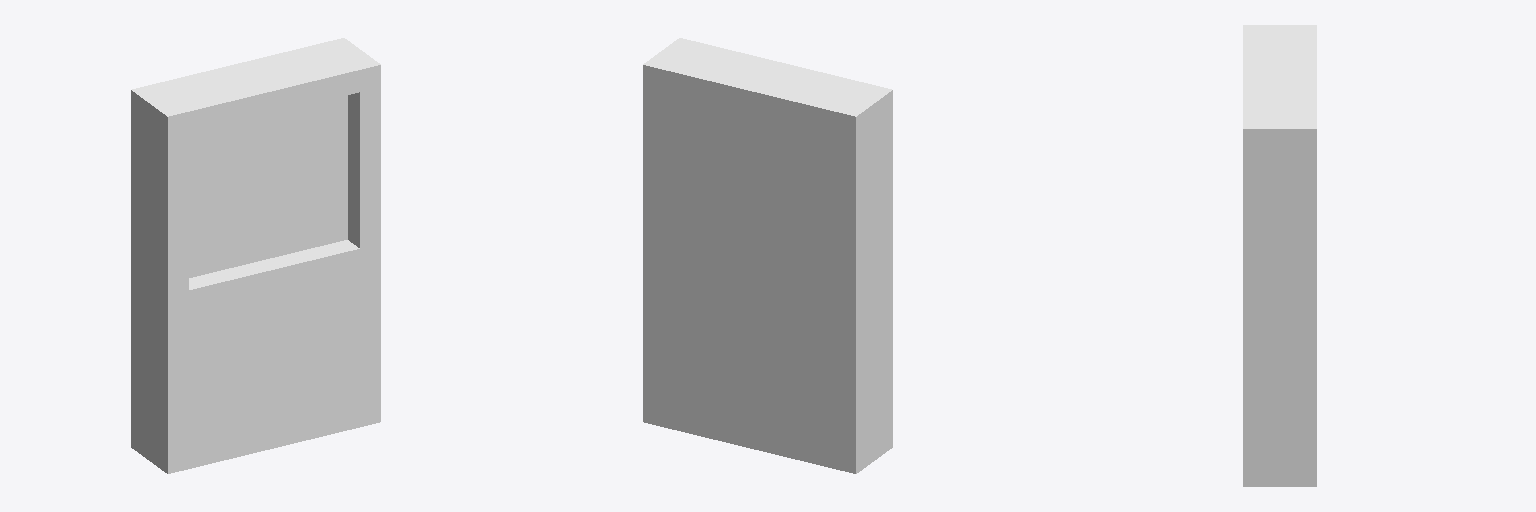
File: SacredTablet.obj
3 views of the same model, side by side, from view 1: azimuth 30°, elevation 25°; view 2: azimuth 150°, elevation 25°; view 3: azimuth 270°, elevation 25° (orthographic).
Parts seen in each view (by area): view 1: SacredTablet; view 2: SacredTablet; view 3: SacredTablet.
Boxes of the visible parts, box(x1,y1,x2,y2) form: SacredTablet: box(131, 38, 380, 473); SacredTablet: box(643, 38, 892, 473); SacredTablet: box(1243, 25, 1316, 486).
Size of the model in its own units: 10 by 16 by 3.